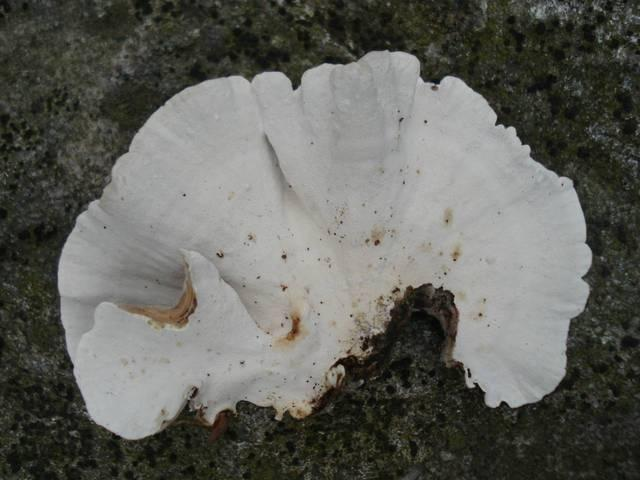Non-edible Mushroom: (55, 48, 593, 441)
